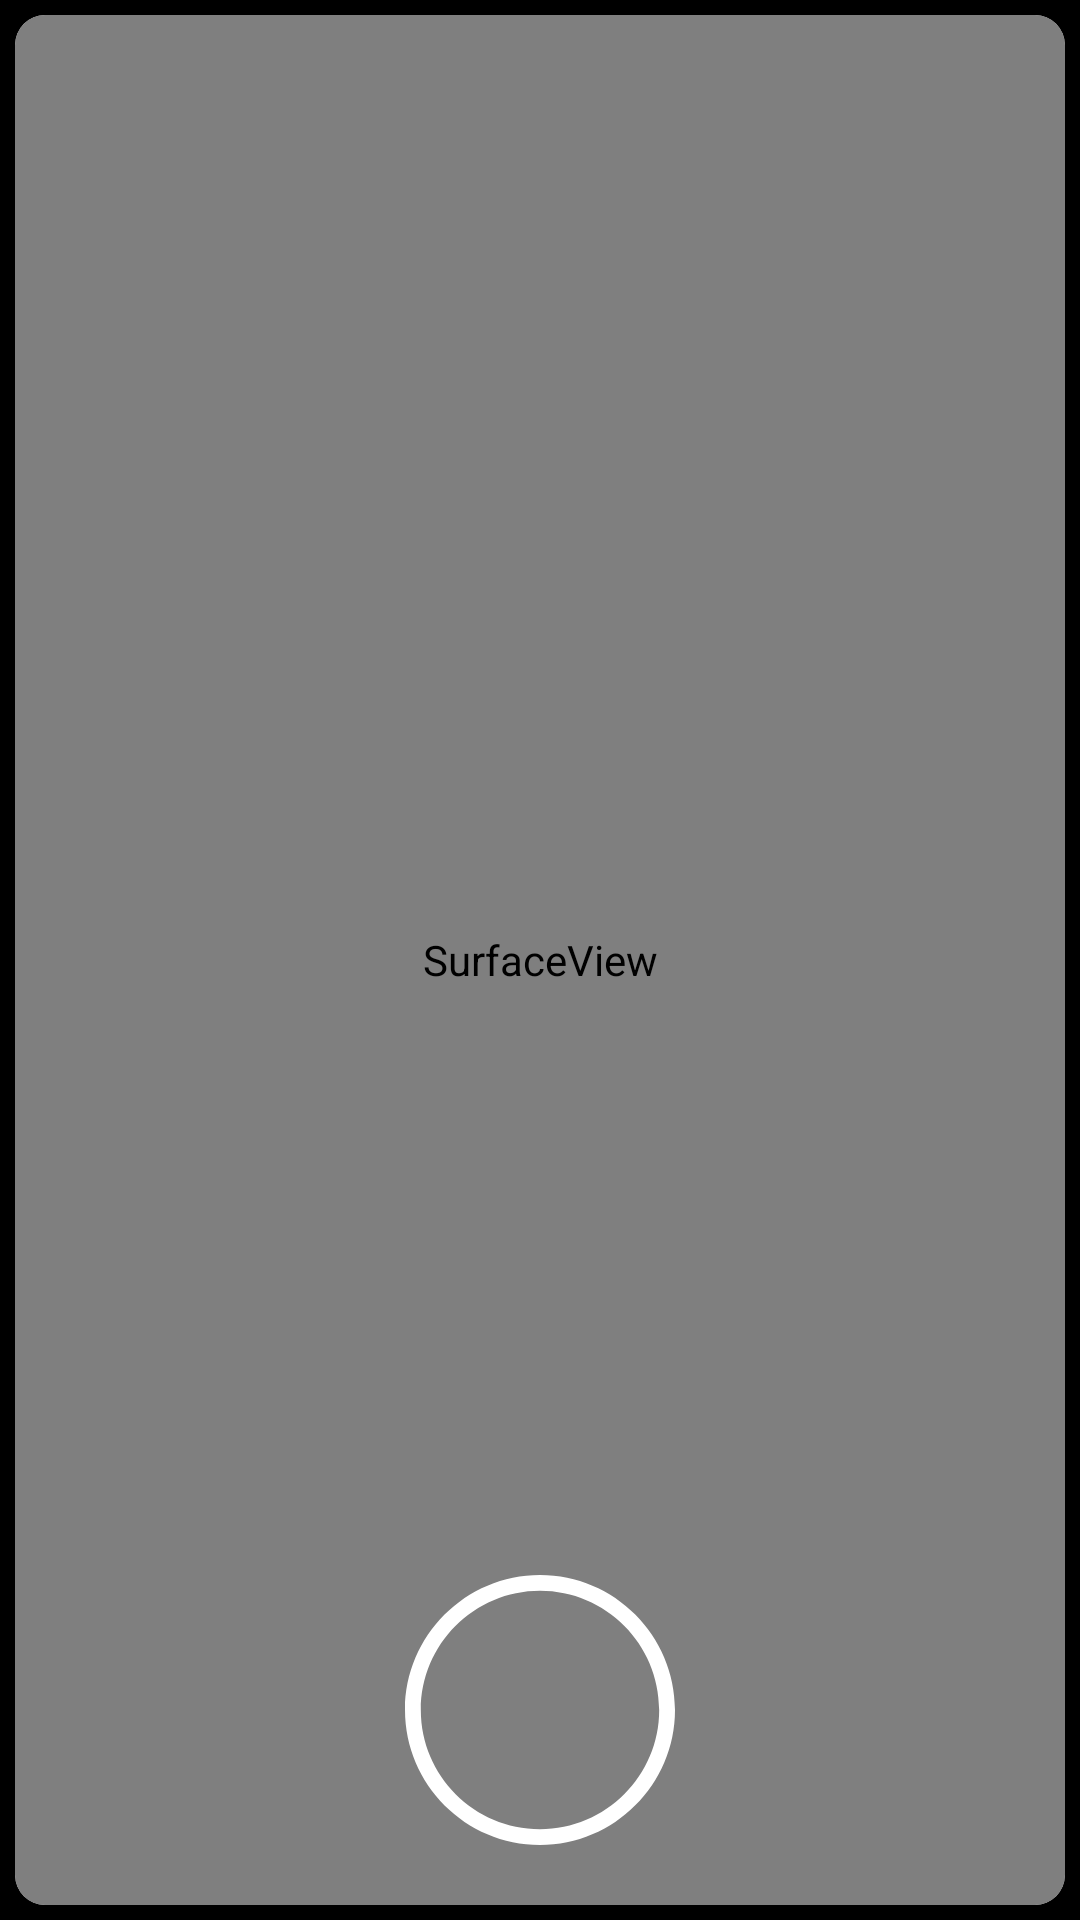

Locate icon controls on the screen. Image size 1080x1920, boxes as BBox(x1, y1, x2, y2).
dry clean: BBox(405, 1575, 675, 1845)
